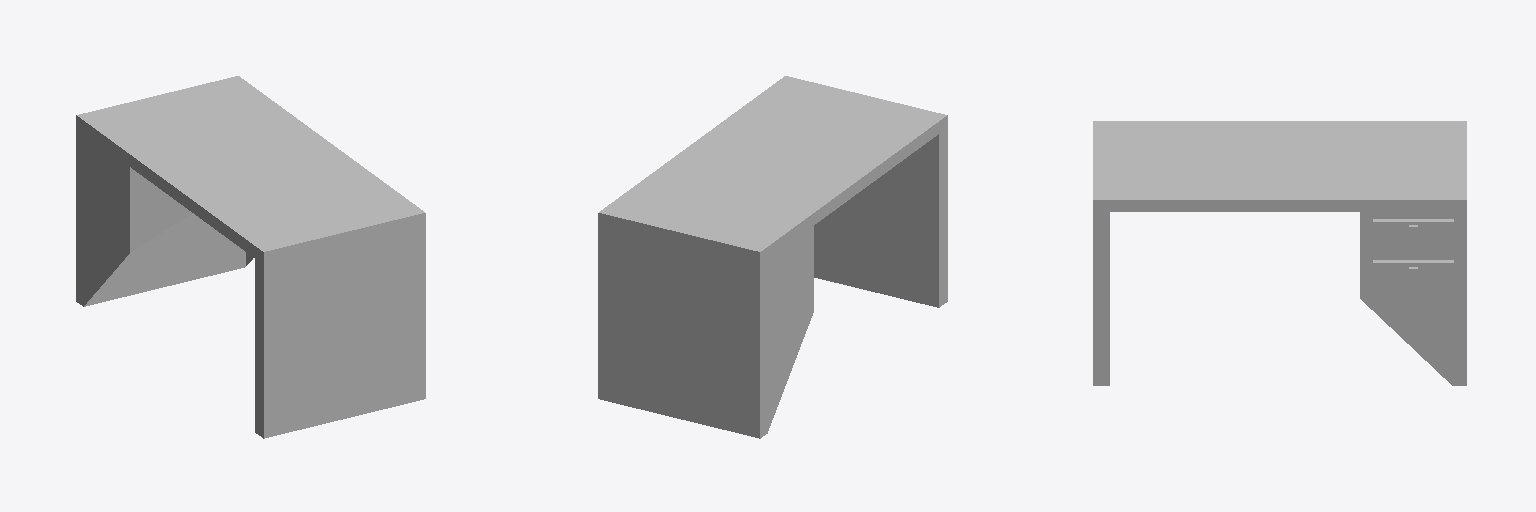
Rendered from Table.obj.
3 views of the same model, side by side, from view 1: azimuth 30°, elevation 25°; view 2: azimuth 150°, elevation 25°; view 3: azimuth 270°, elevation 25° (orthographic).
Visible parts, largest first — view 1: Table; view 2: Table; view 3: Table.
Part boxes in pixels (x1,y1,x2,y2): Table: (76, 76, 425, 438); Table: (598, 76, 947, 438); Table: (1093, 121, 1466, 385).
Bounding box in the file's own units: 1.06 × 1.1 × 2.